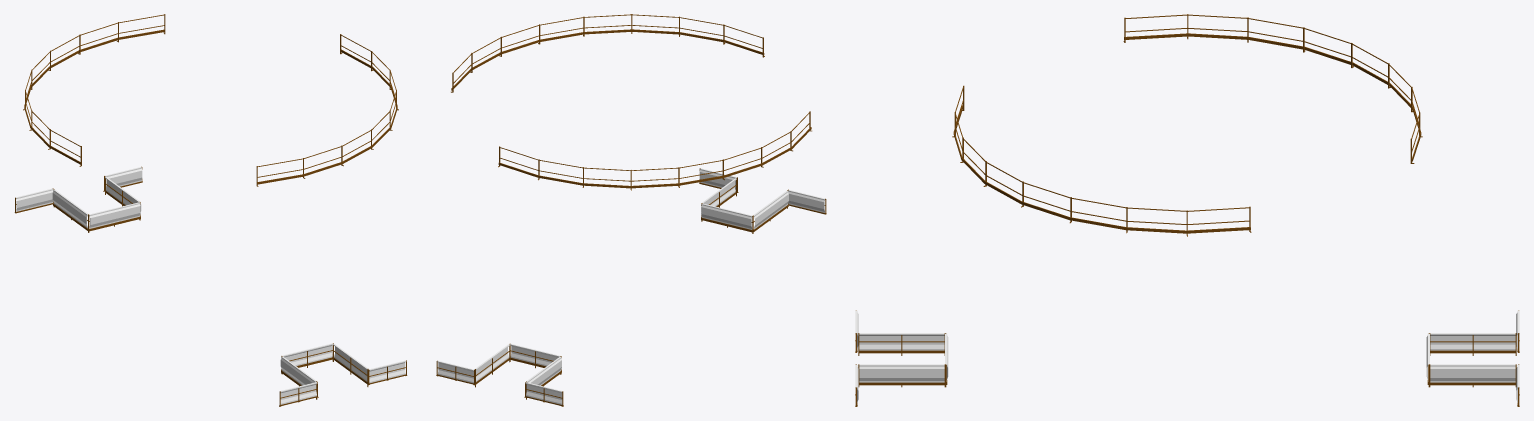
Rendered from SM_H_Building_Tide_MainShaft_02f_ATLAS.fbx.
3 views of the same model, side by side, from view 1: azimuth 30°, elevation 25°; view 2: azimuth 150°, elevation 25°; view 3: azimuth 270°, elevation 25° (orthographic). The views are drawn at different scales.
Parts seen in each view (by area): view 1: SM_H_Building_Tide_MainShaft_02f_ATLAS; view 2: SM_H_Building_Tide_MainShaft_02f_ATLAS; view 3: SM_H_Building_Tide_MainShaft_02f_ATLAS.
Part boxes in pixels (left/top/right/bottom): SM_H_Building_Tide_MainShaft_02f_ATLAS: left=14, top=14, right=407, bottom=406; SM_H_Building_Tide_MainShaft_02f_ATLAS: left=436, top=14, right=826, bottom=406; SM_H_Building_Tide_MainShaft_02f_ATLAS: left=855, top=14, right=1519, bottom=406.
Bounding box in the file's own units: 2470 × 3488 × 1501.
